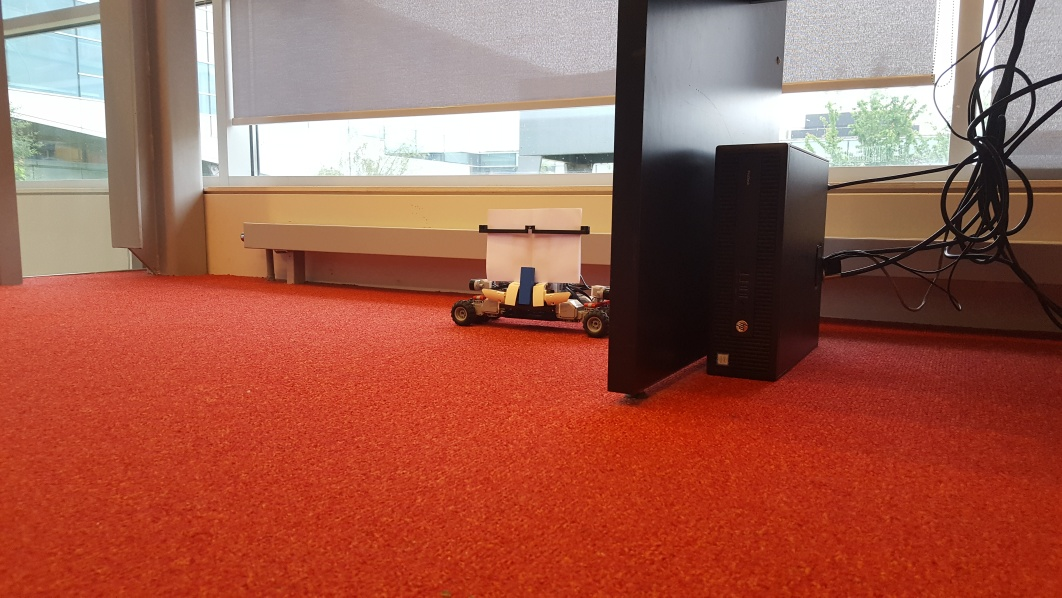car: (448, 206, 612, 336)
